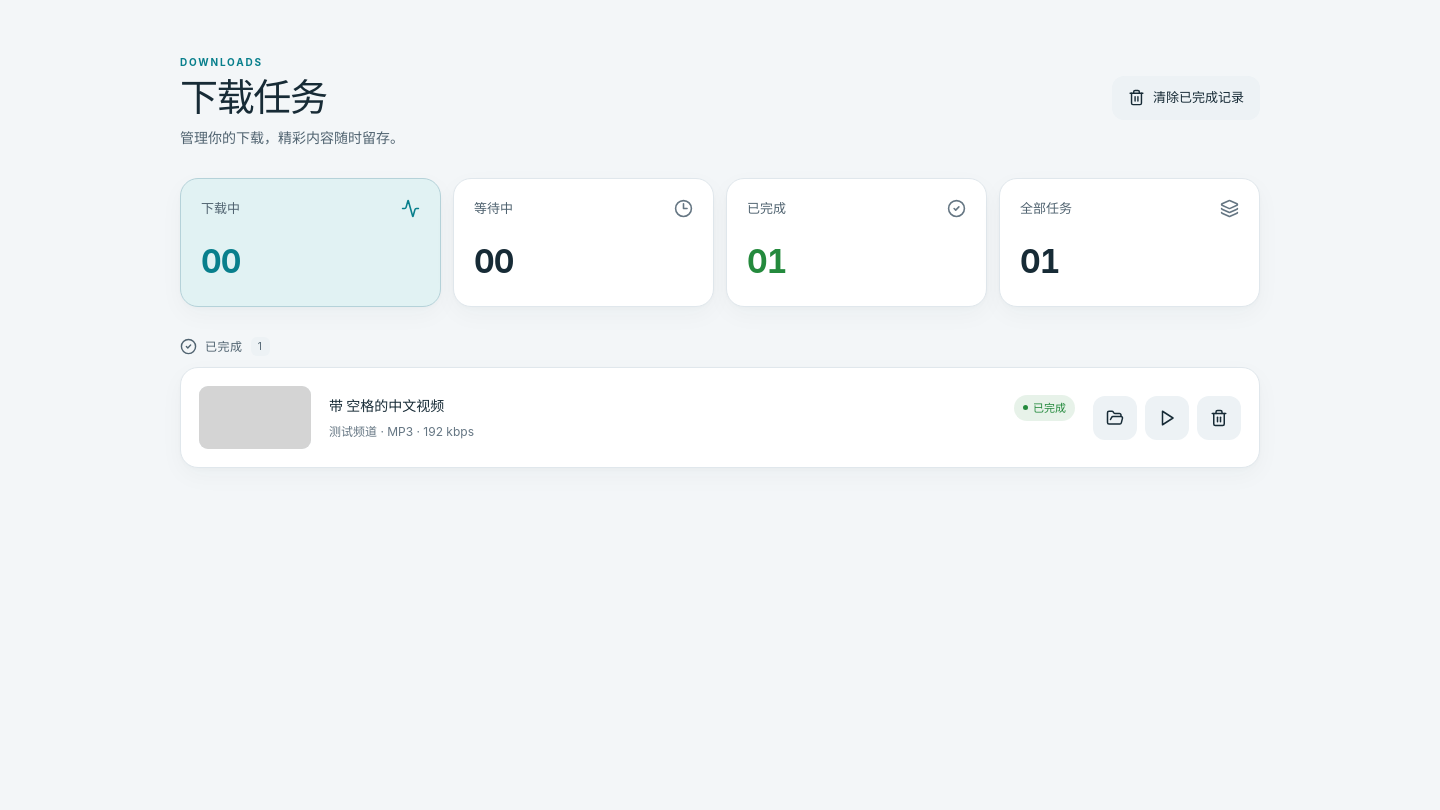
Test: TasksView › plays completed audio inside the app
Click the button named "播放 带 空格的中文视频" at (1167, 418), box [1145, 396, 1189, 440]
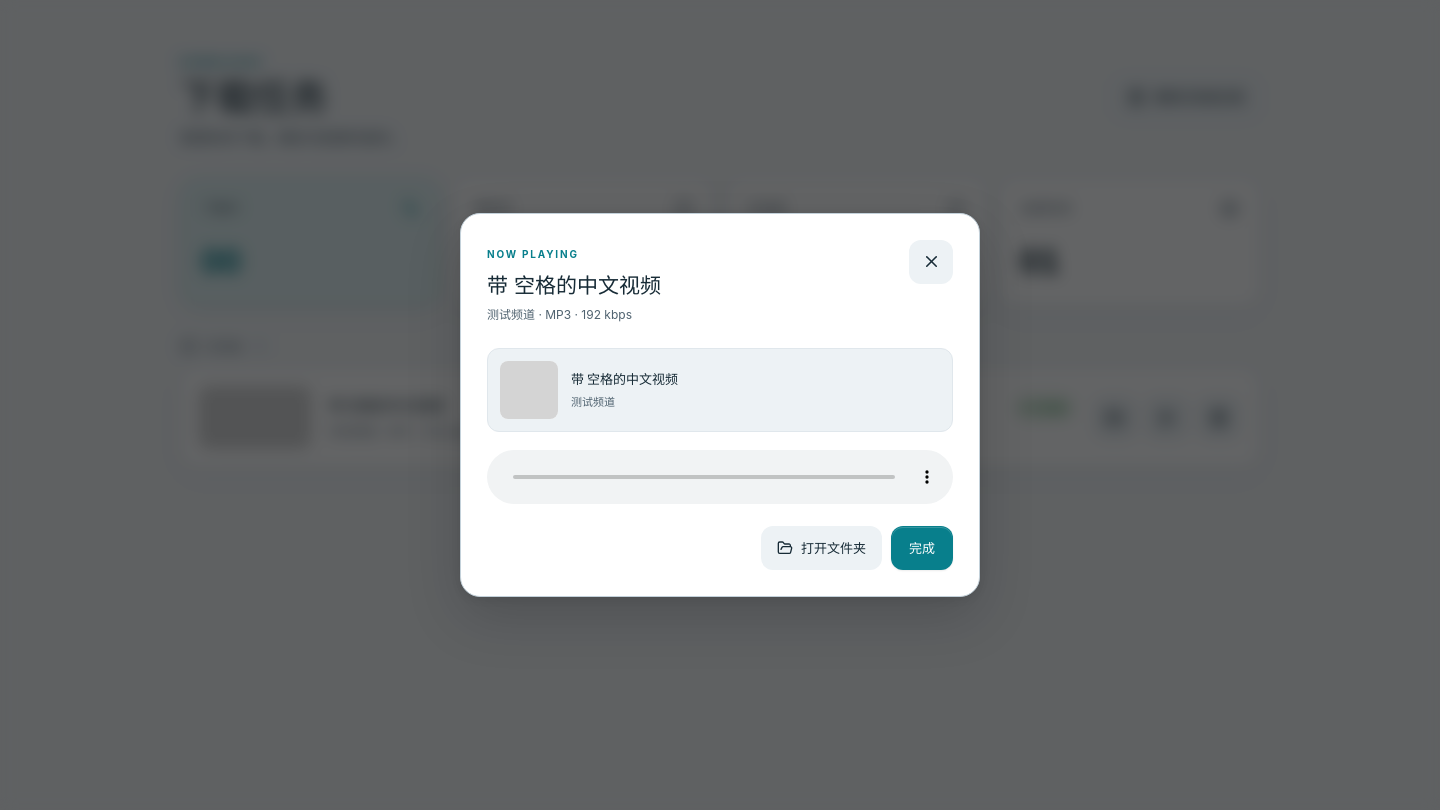
expect the dialog "带 空格的中文视频" is shown: met, box [460, 213, 980, 597]
